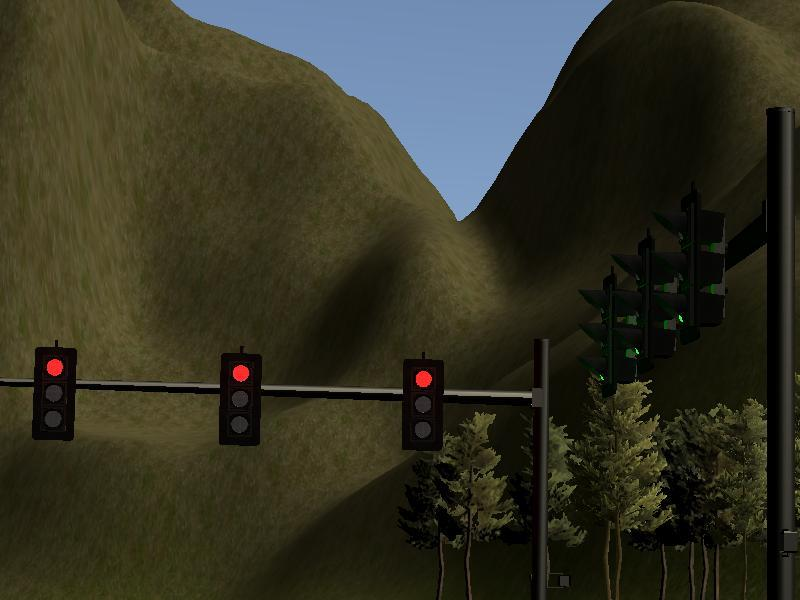Red: (34, 346, 75, 442), (401, 357, 442, 453), (219, 352, 260, 448)
